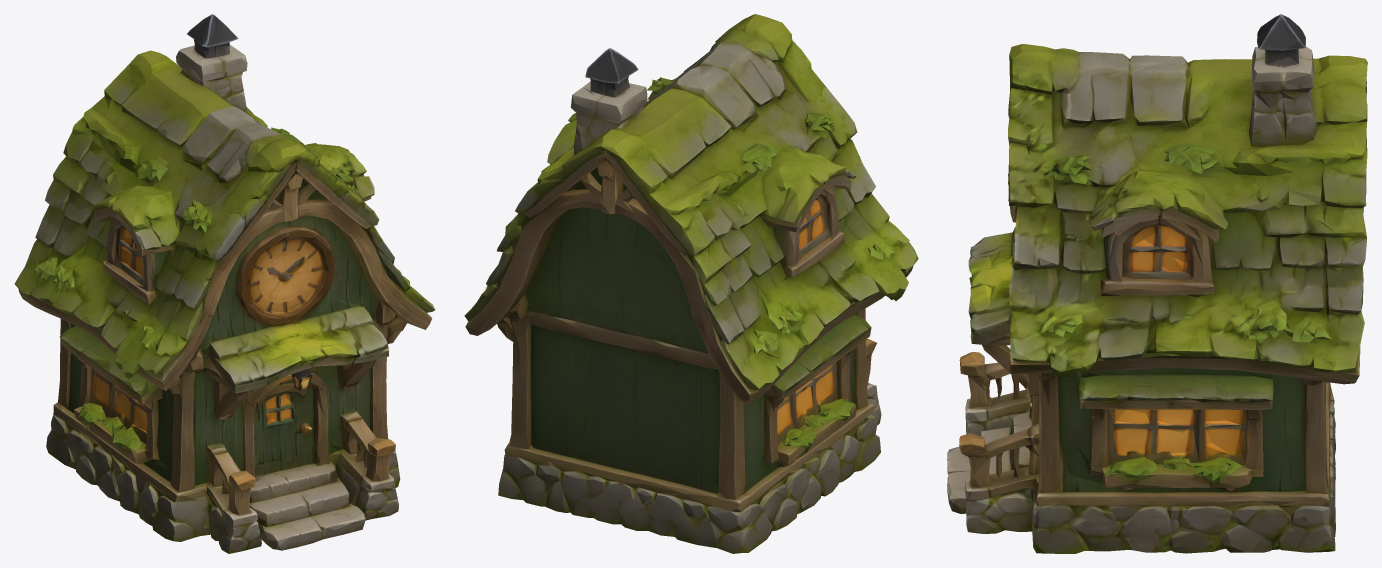
3 views of the same model, side by side, from view 1: azimuth 30°, elevation 25°; view 2: azimuth 150°, elevation 25°; view 3: azimuth 270°, elevation 25° (orthographic). The views are drawn at different scales.
Parts seen in each view (by area): view 1: Mesh; view 2: Mesh; view 3: Mesh.
Part boxes in pixels (<box>): Mesh: <box>14,14,435,553</box>; Mesh: <box>464,14,918,553</box>; Mesh: <box>947,14,1367,553</box>.
Bounding box in the file's own units: 1.42 × 1.9 × 1.47.
1 material, 1 textured.
